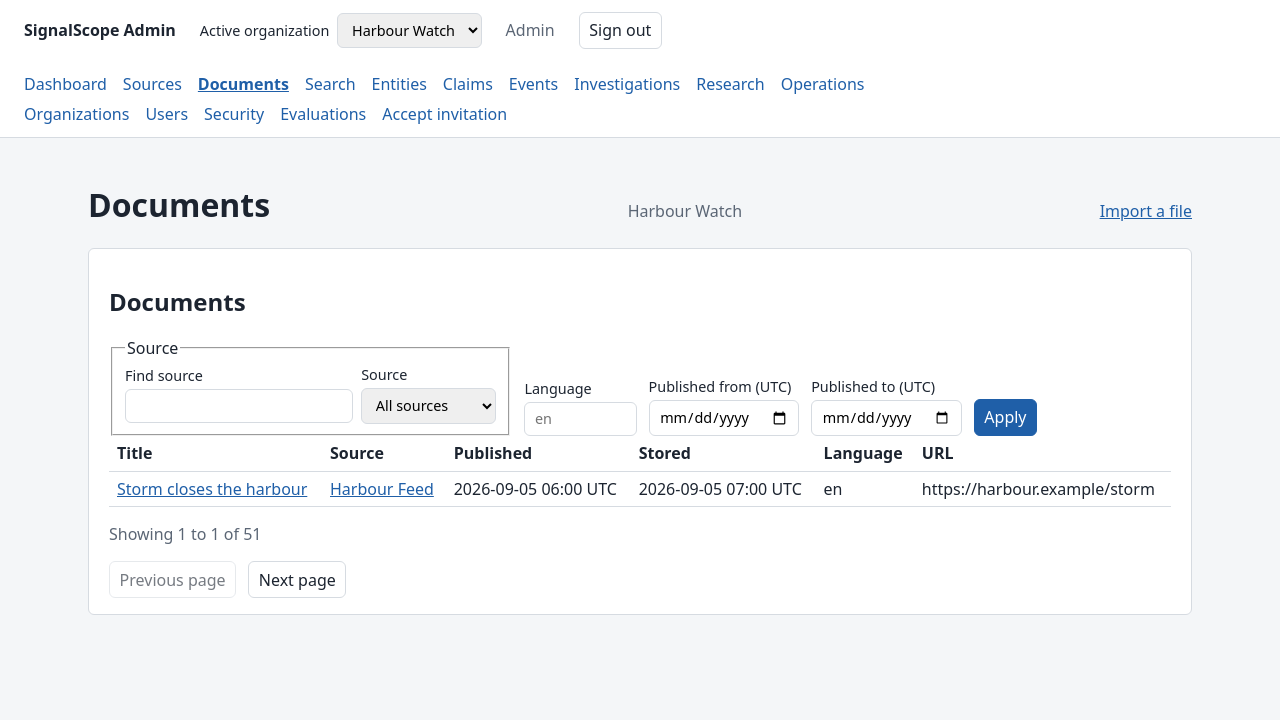
Test case: documents workspace › pages with the API
expect the text "Showing 1 to 1 of 51" is shown: met, box [109,523,262,545]
Click the button "Next page": click(297, 580) [248,561,346,598]
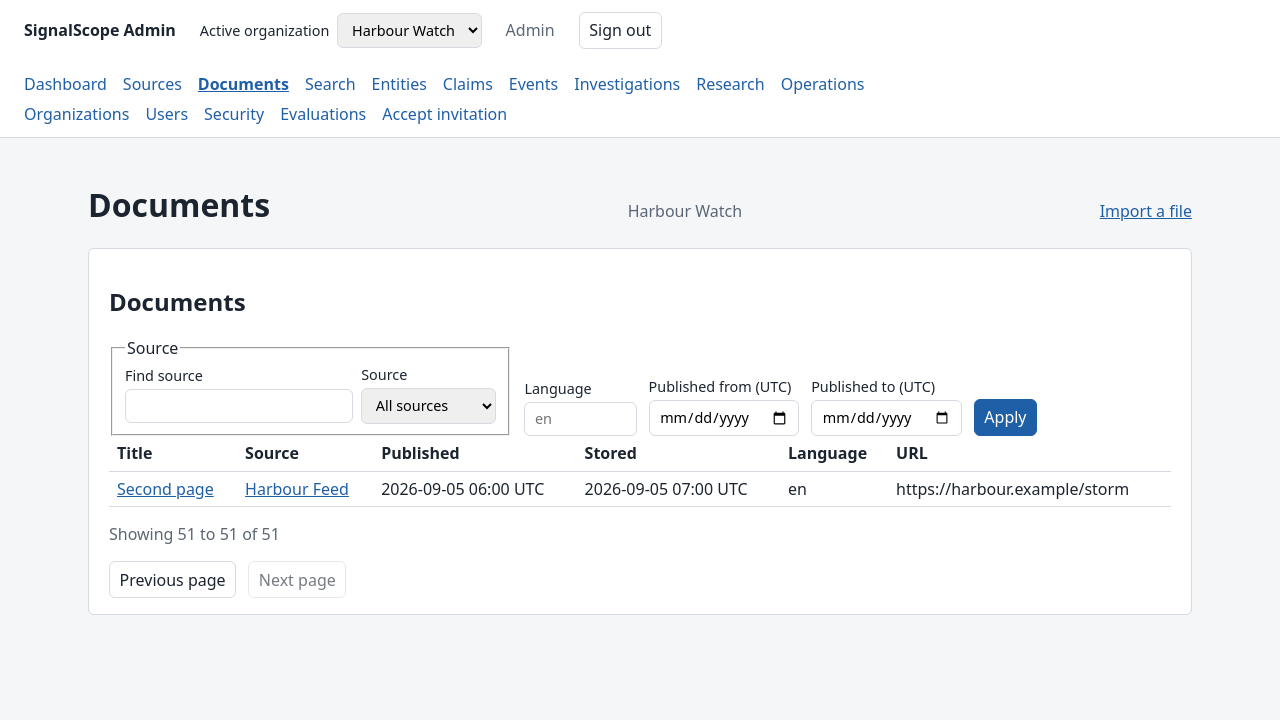
expect the link "Second page" is shown: met, box [117,478,214,500]
expect the text "Showing 51 to 51 of 51" is shown: met, box [109,523,280,545]
